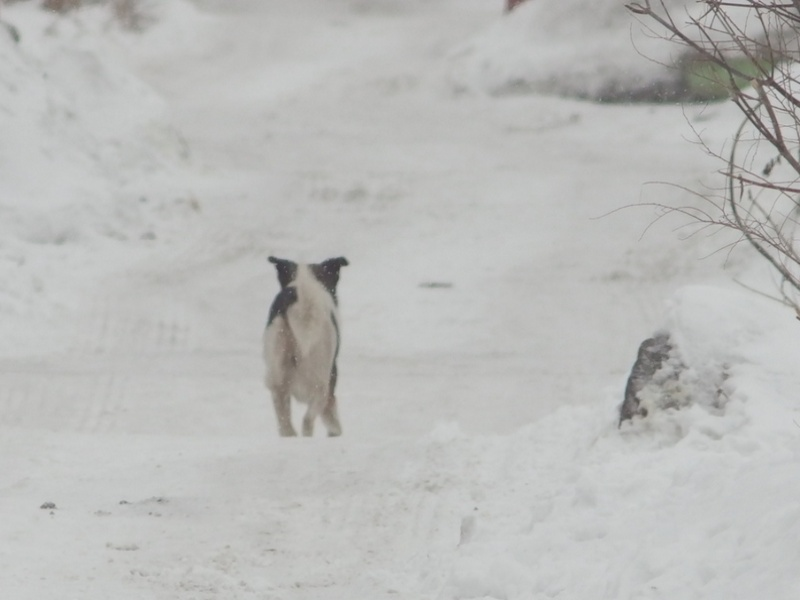dog: (260, 252, 356, 441)
